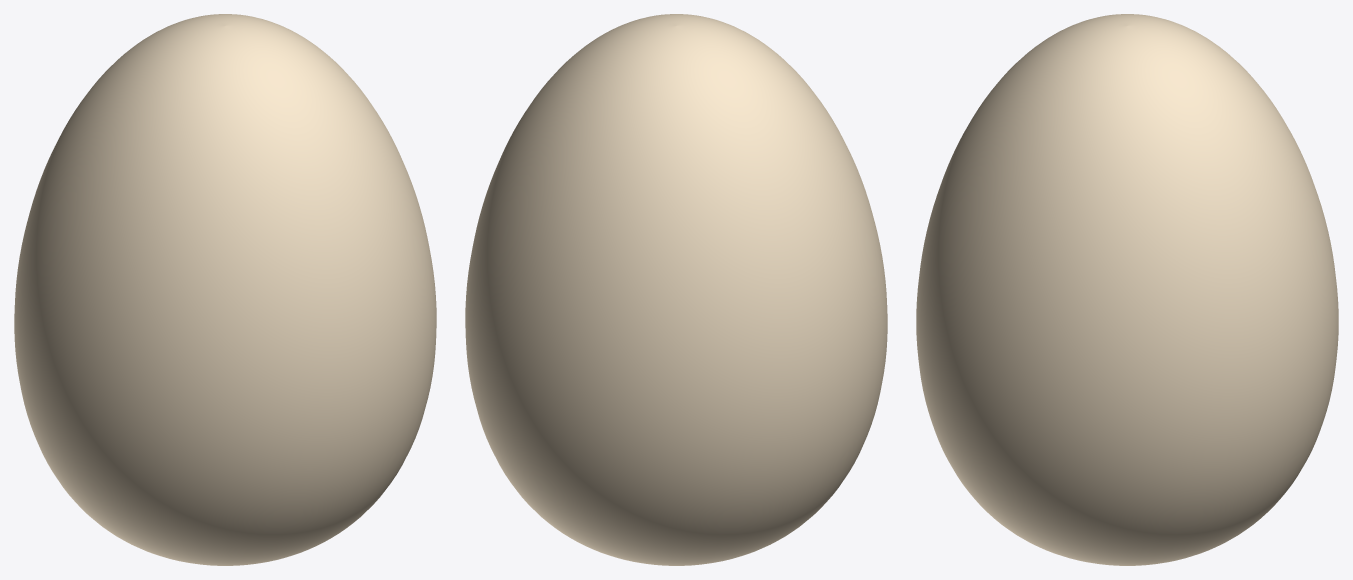
The model's file is egg.glb.
3 renders of one model, left to right at view 1: azimuth 30°, elevation 25°; view 2: azimuth 150°, elevation 25°; view 3: azimuth 270°, elevation 25°, orthographic.
Parts seen in each view (by area): view 1: Egg; view 2: Egg; view 3: Egg.
Boxes of the visible parts, <box> form: Egg: <box>14,14,436,565</box>; Egg: <box>465,14,887,565</box>; Egg: <box>916,14,1338,565</box>.
Bounding box in the file's own units: 0.3705 × 0.5 × 0.3705.
